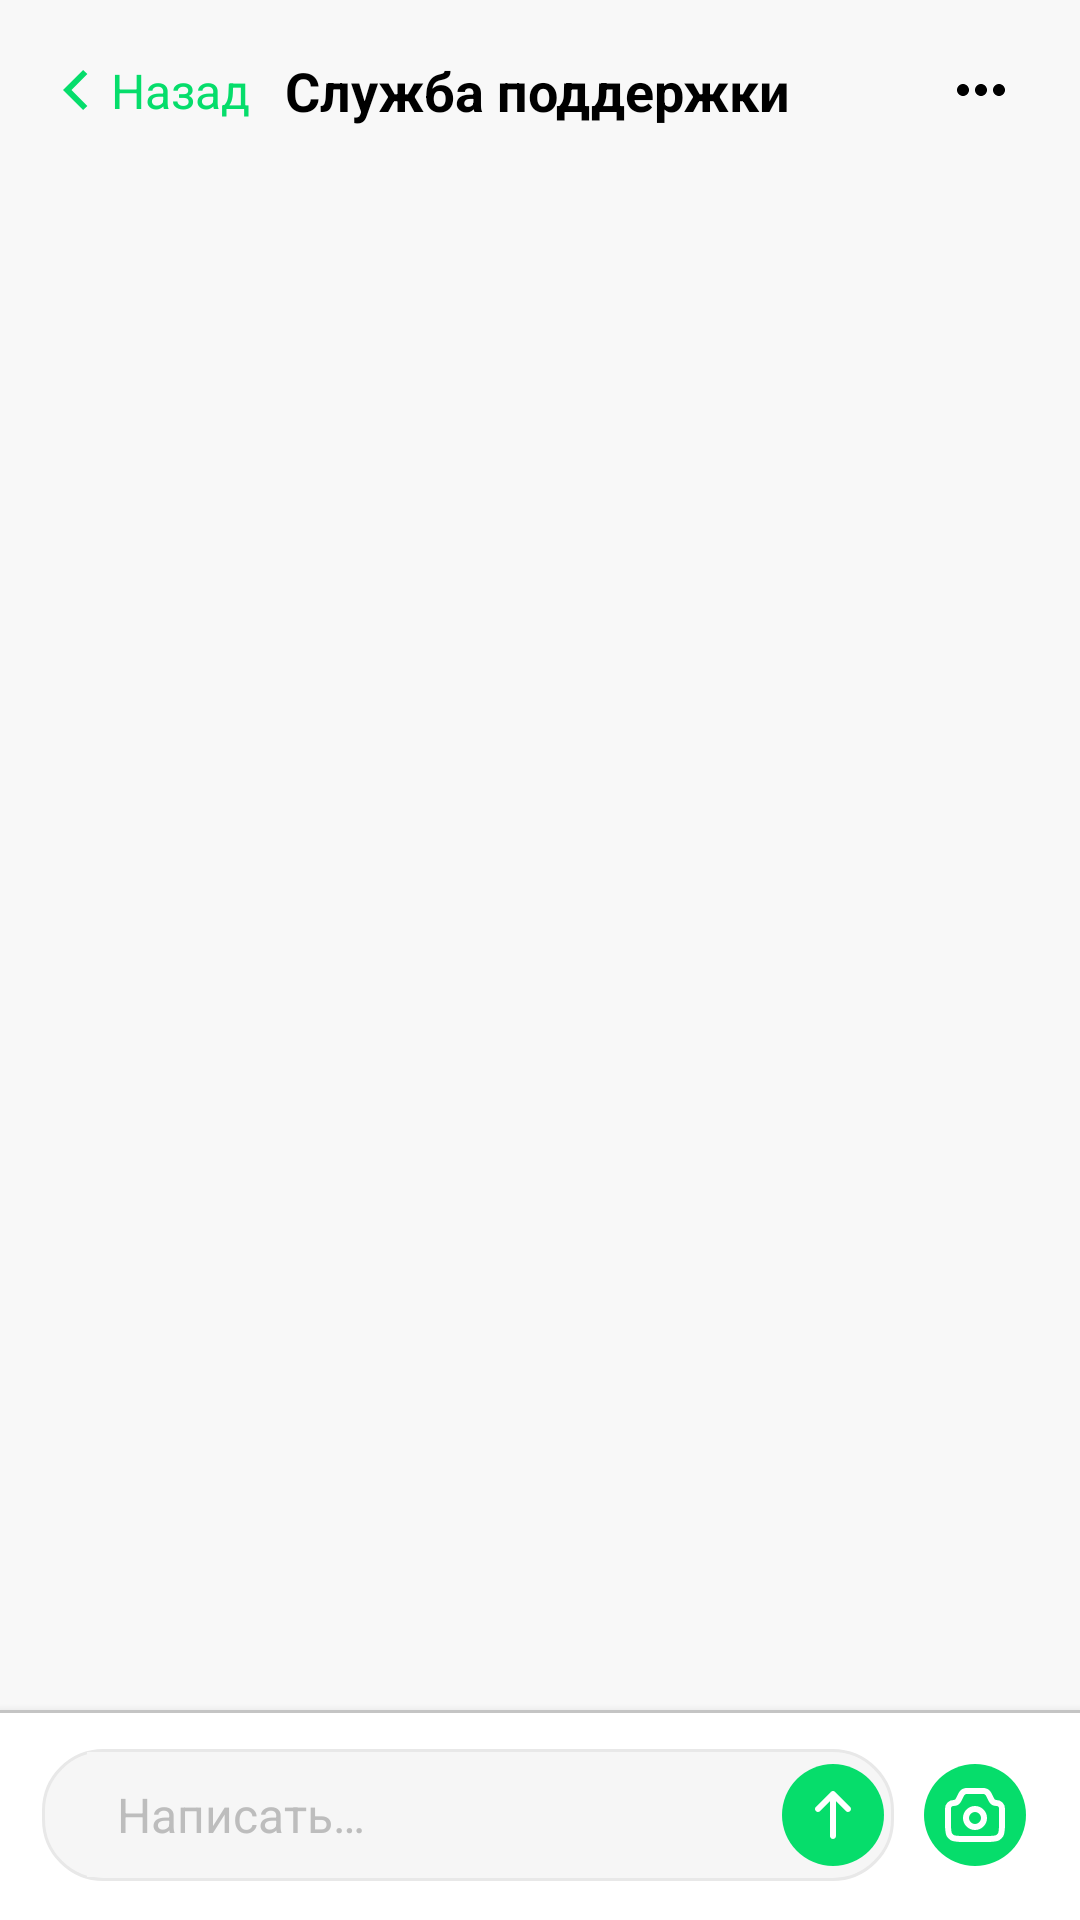

Icons on this 1080×1920 Android screen, each with its box as detection(x1, y1, x2, y2):
action: detection(957, 84, 1005, 96)
back arrow: detection(63, 70, 87, 110)
camera: detection(924, 1764, 1026, 1866)
send: detection(782, 1764, 884, 1866)
